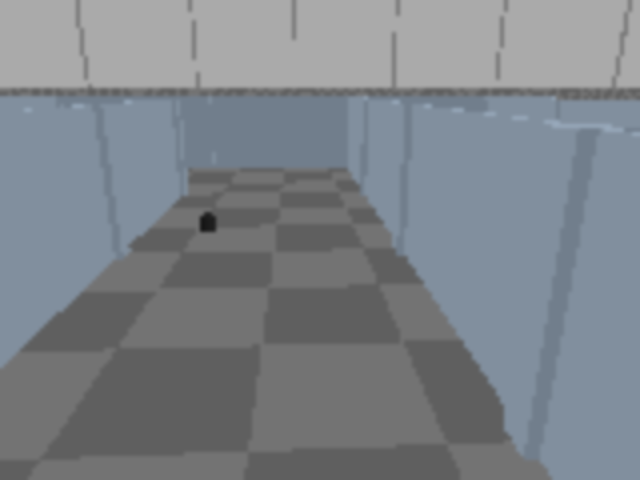puck: (199, 214, 215, 232)
